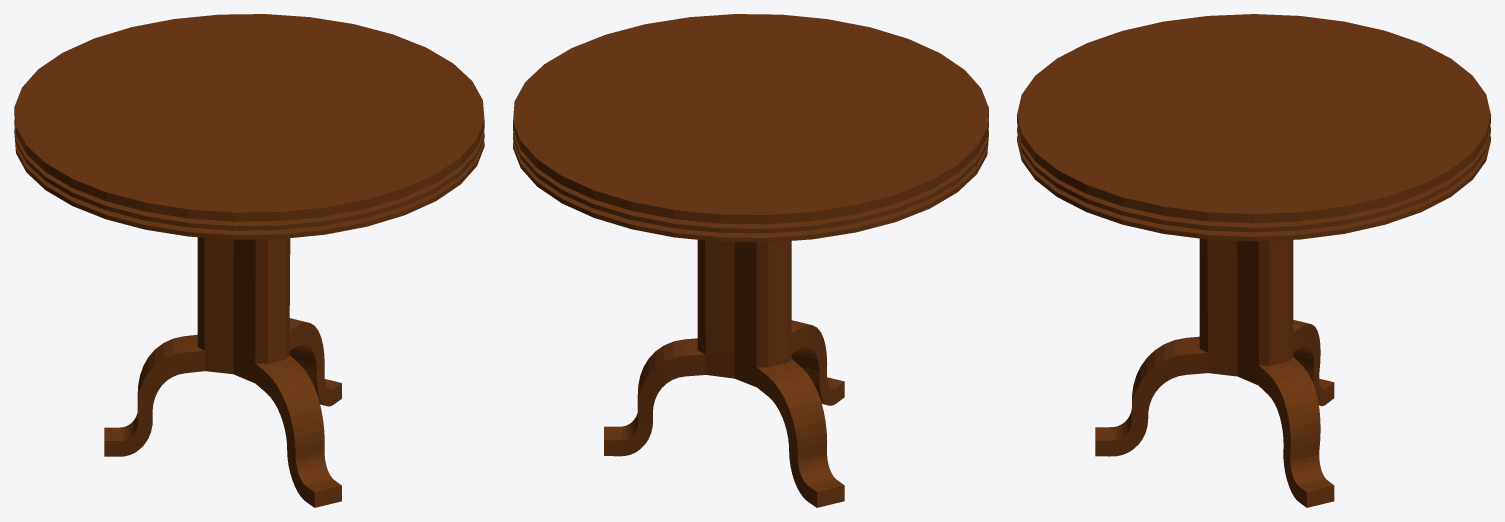
File: Table_n2.fbx
The picture shows the model from 3 angles, left to right: view 1: azimuth 30°, elevation 25°; view 2: azimuth 150°, elevation 25°; view 3: azimuth 270°, elevation 25°; orthographic projection.
Parts seen in each view (by area): view 1: Cylinder.001; view 2: Cylinder.001; view 3: Cylinder.001.
Boxes of the visible parts, x1,y1,x2,y2 form: Cylinder.001: [14, 14, 484, 507]; Cylinder.001: [513, 14, 988, 507]; Cylinder.001: [1017, 14, 1490, 507].
Bounding box in the file's own units: 446 × 348 × 446.
